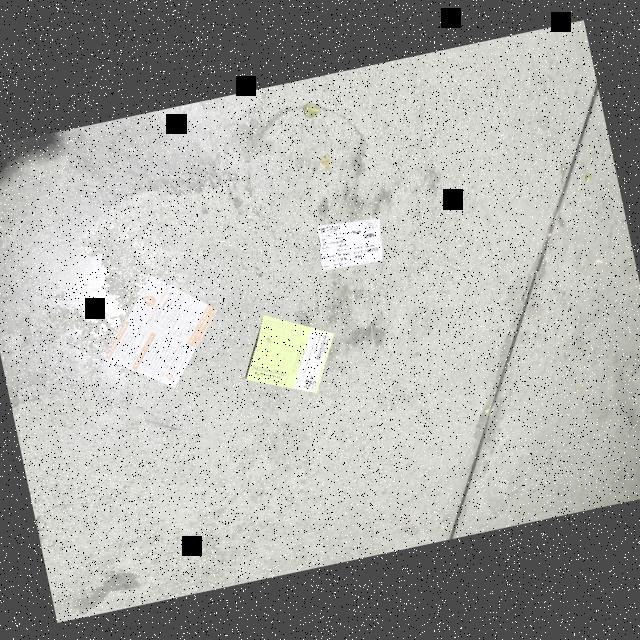scrap_paper: (102, 260, 235, 399), (240, 298, 348, 410), (310, 208, 394, 277)
